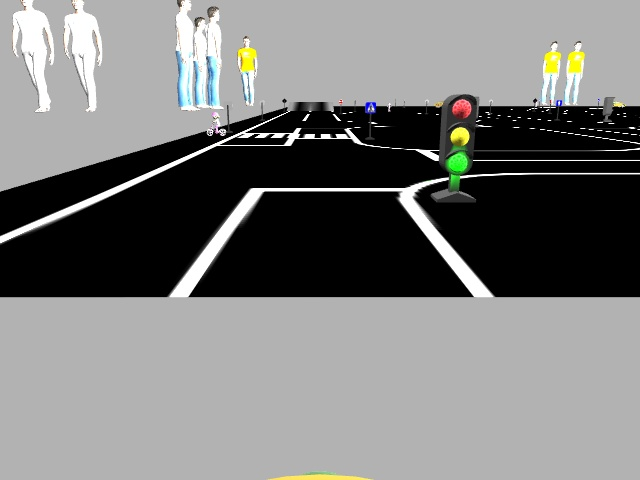Crosswalk: (365, 100, 375, 112)
Pedestrian: (205, 111, 225, 135)
TrafficLight: (438, 93, 474, 177)
